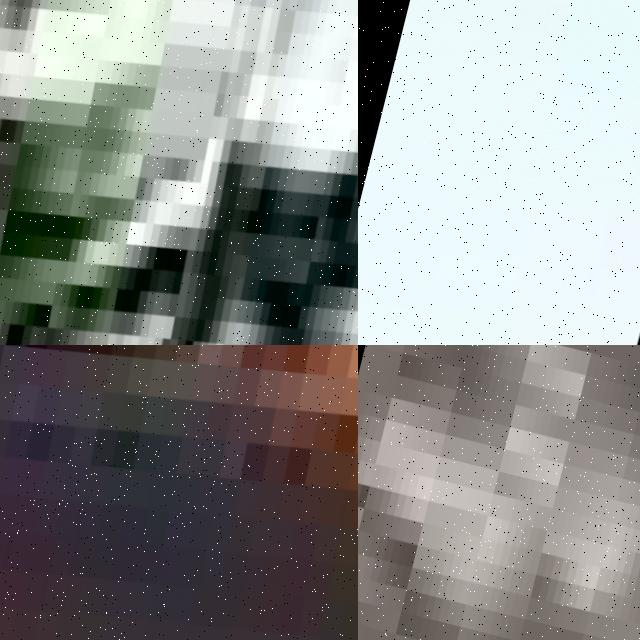0: (0, 0, 358, 345)
drone: (0, 345, 358, 640), (358, 0, 640, 345)
